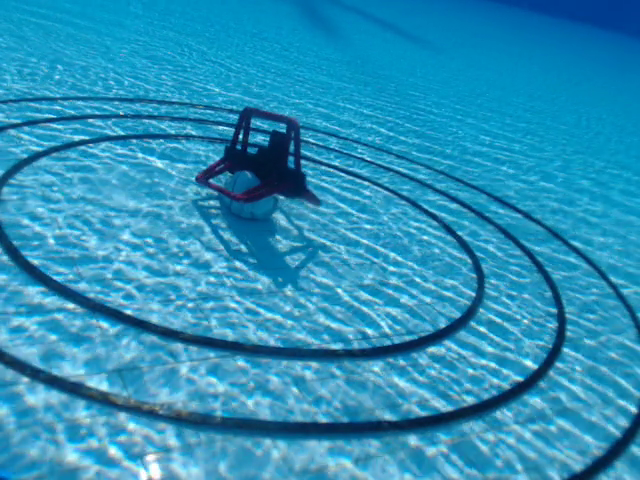submarine: (194, 103, 323, 212)
